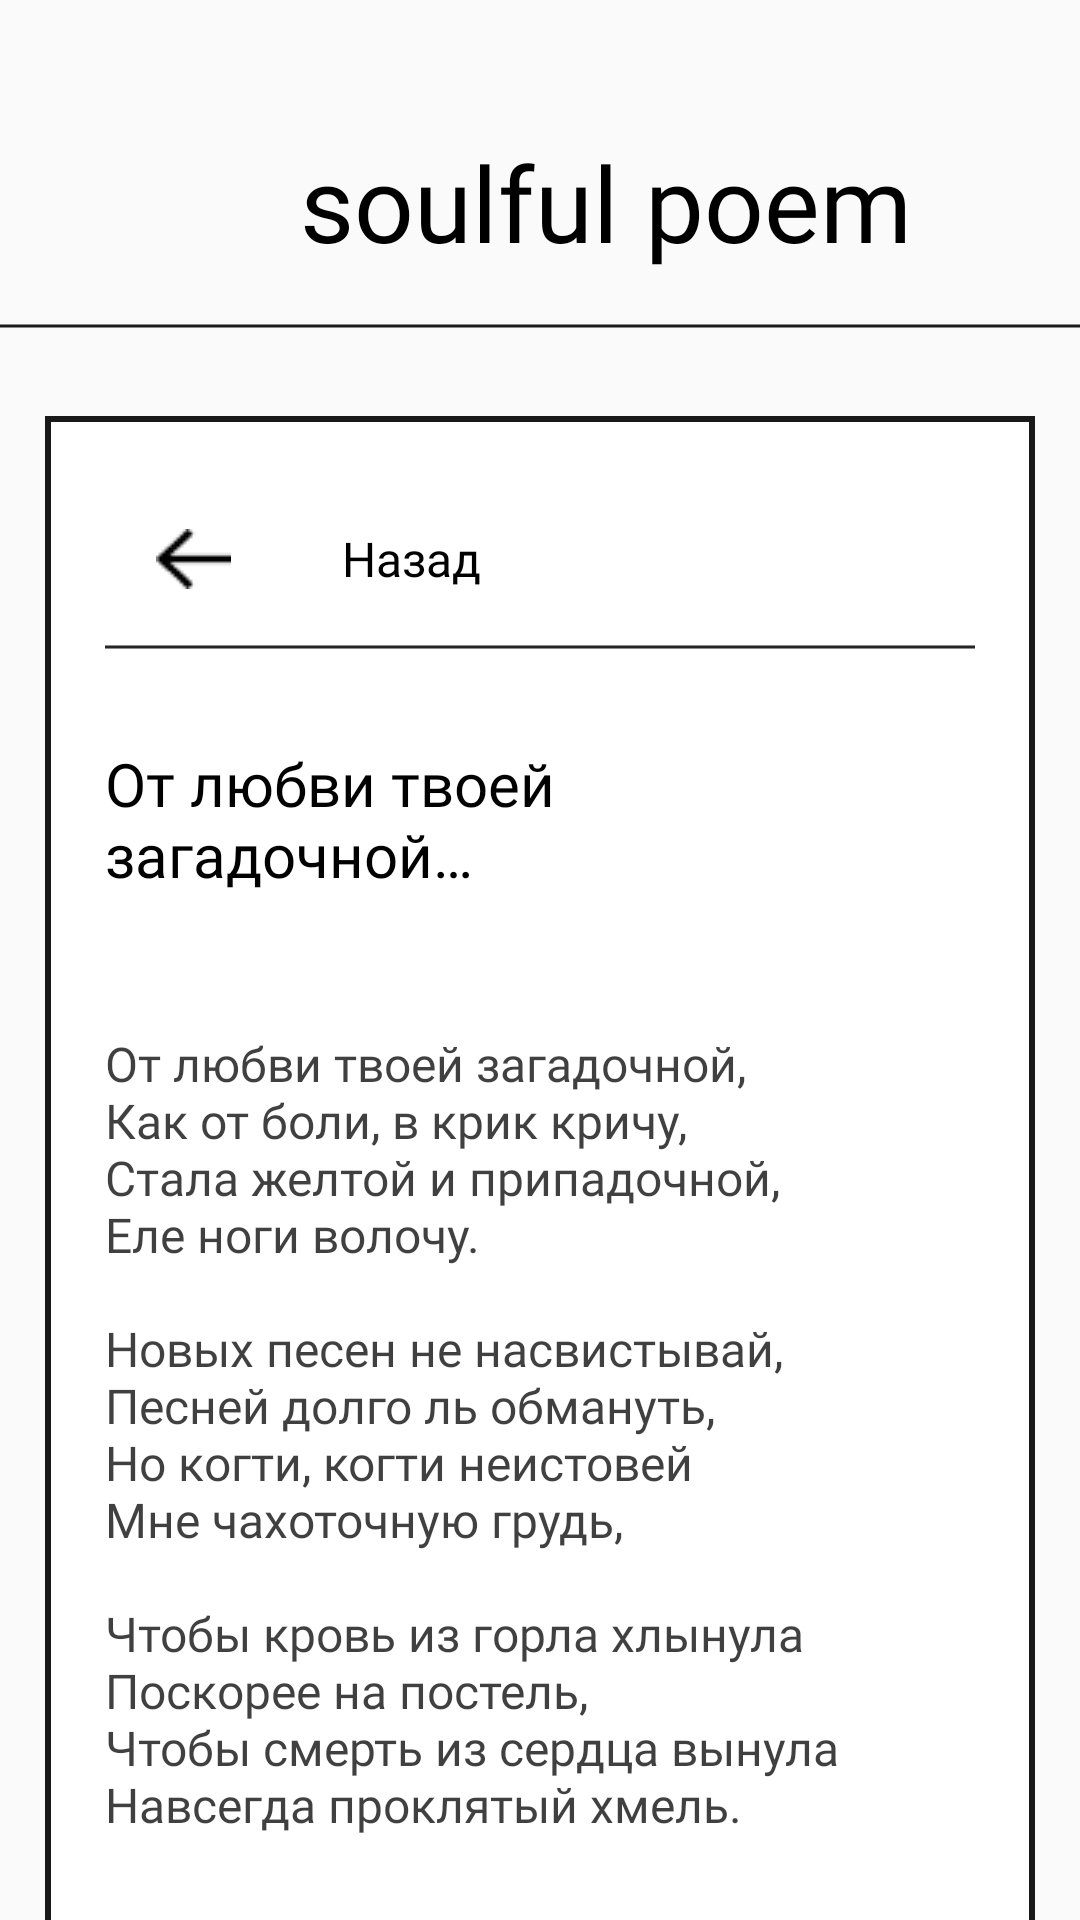

Icon click points for this 1080 x 1920 phone screenshot, format point (x, y):
Стрелка: point (193, 559)
